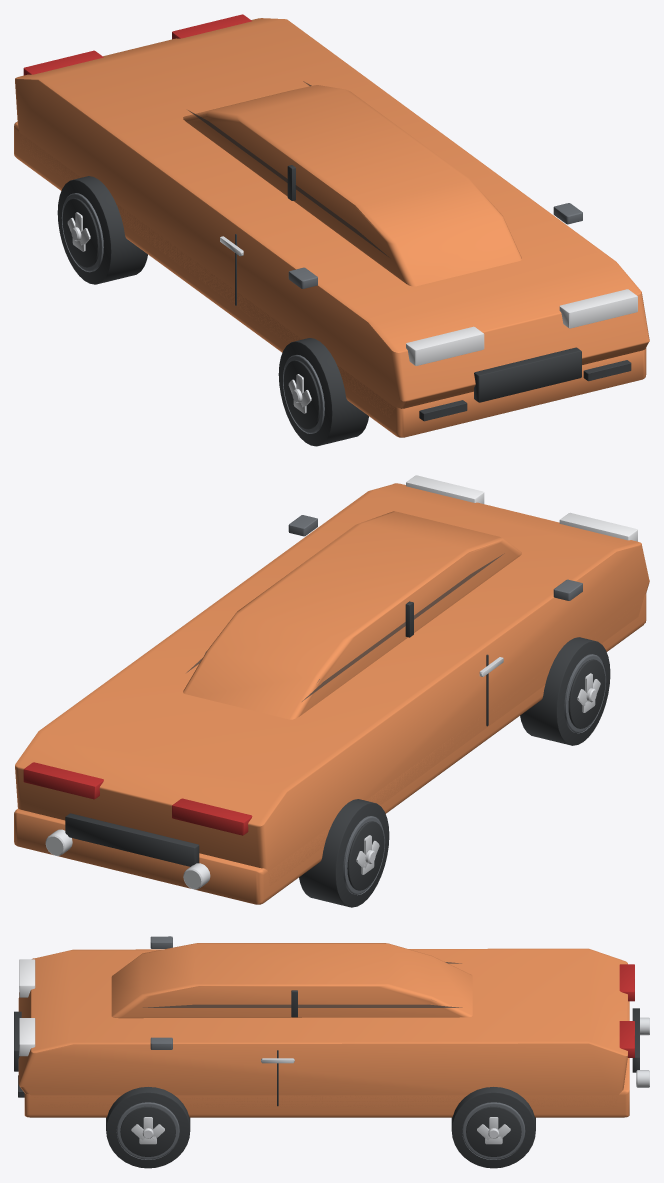
Rendered from ironclad-muscle.glb.
3 renders of one model, top to bottom at view 1: azimuth 30°, elevation 25°; view 2: azimuth 150°, elevation 25°; view 3: azimuth 270°, elevation 25°, orthographic. The views are drawn at different scales.
Visible parts, largest first — view 1: paint, trim, head, accent, tail, rim, glass; view 2: paint, trim, tail, rim, accent, head, glass; view 3: paint, trim, accent, rim, head, glass, tail.
Part boxes in pixels (x1,y1,x2,y2): paint: (14,18,649,437); trim: (57,165,631,446); head: (406,289,637,365); accent: (61,193,582,433); tail: (23,14,251,75); rim: (67,212,311,413); glass: (188,81,388,256); paint: (14,483,649,904); trim: (65,601,610,907); tail: (23,762,252,835); rim: (45,657,600,889); accent: (288,515,606,895); head: (406,475,637,541); glass: (187,554,502,701); paint: (18,943,629,1117); trim: (14,990,639,1168); accent: (116,936,525,1159); rim: (131,1017,649,1144); head: (19,959,35,1056); glass: (143,962,461,1007); tail: (619,964,634,1057).
Bounding box in the file's own units: 2.17 × 1.35 × 5.13.
